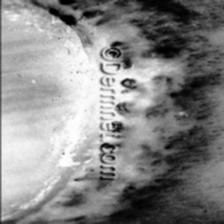Unclassified: (123, 0, 224, 209), (28, 0, 96, 213)
